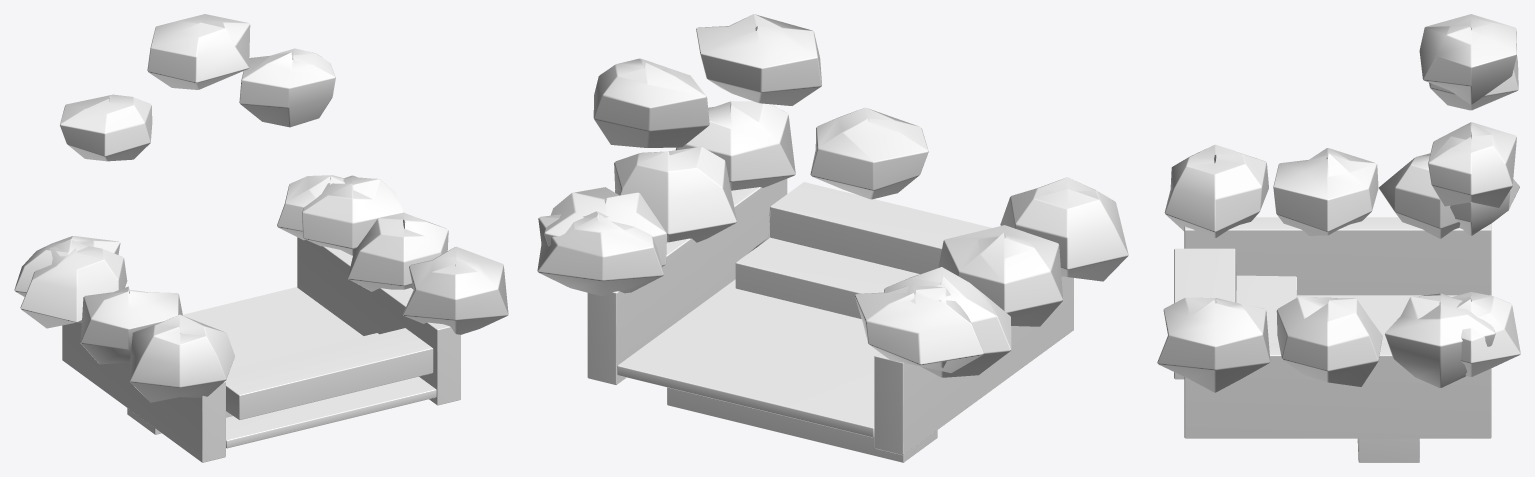
Rendered from stairs.glb.
The picture shows the model from 3 angles, left to right: view 1: azimuth 30°, elevation 25°; view 2: azimuth 150°, elevation 25°; view 3: azimuth 270°, elevation 25°; orthographic projection. The views are drawn at different scales.
Visible parts, largest first — view 1: Stairs; view 2: Stairs; view 3: Stairs.
Part boxes in pixels (x1,y1,x2,y2): Stairs: (14, 14, 508, 462); Stairs: (537, 14, 1128, 462); Stairs: (1157, 14, 1520, 462).
Bounding box in the file's own units: 4.69 × 4.15 × 3.55.
Materials: 1 (1 with a texture image).
